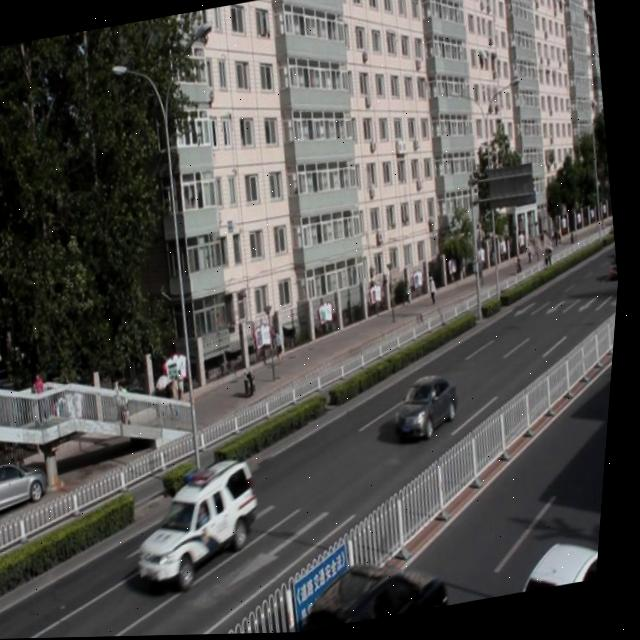car: (130, 455, 275, 595), (301, 553, 457, 634), (513, 531, 608, 596), (394, 370, 468, 444)
